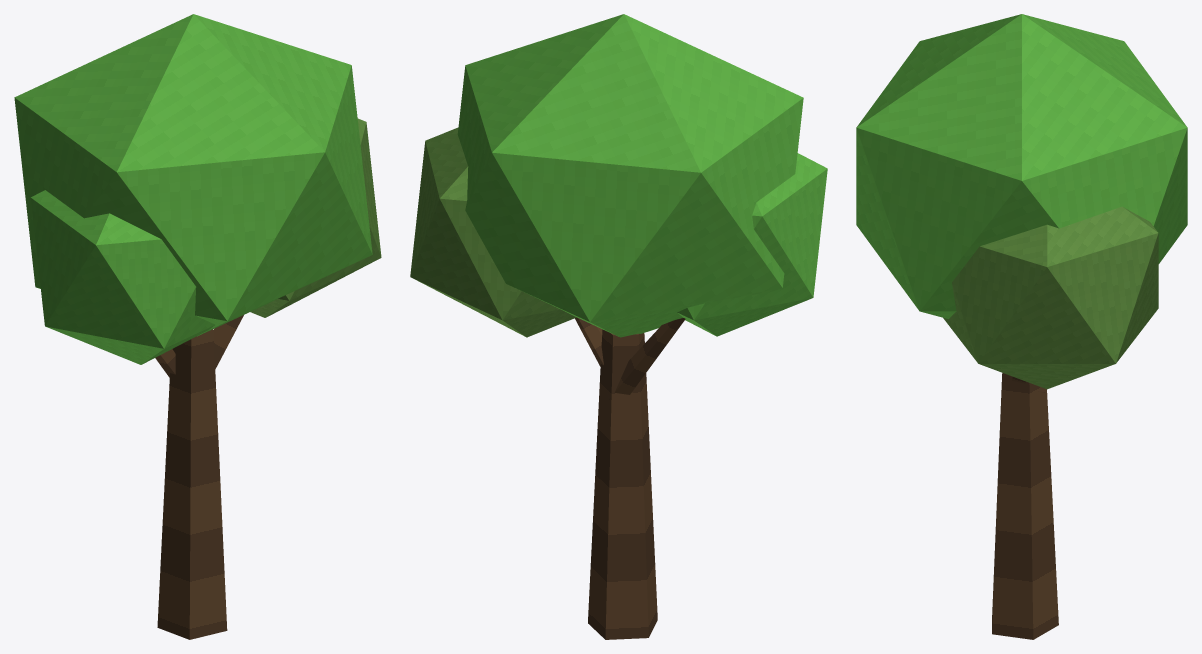
Rendered from tree-deciduous-lod1.glb.
The picture shows the model from 3 angles, left to right: view 1: azimuth 30°, elevation 25°; view 2: azimuth 150°, elevation 25°; view 3: azimuth 270°, elevation 25°; orthographic projection.
Parts seen in each view (by area): view 1: tree-deciduous-lod1; view 2: tree-deciduous-lod1; view 3: tree-deciduous-lod1.
Boxes of the visible parts, x1,y1,x2,y2 form: tree-deciduous-lod1: (14, 14, 381, 639); tree-deciduous-lod1: (410, 14, 827, 639); tree-deciduous-lod1: (856, 14, 1187, 639).
Size of the model in its own units: 2.44 by 4.02 by 1.97.
1 material, 1 textured.
